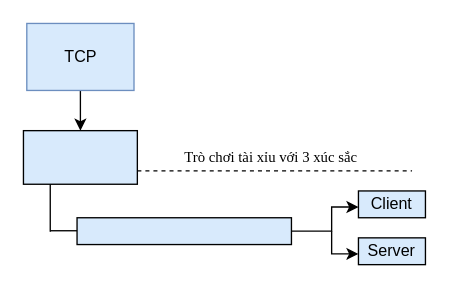
The diagram is 449 pixels wide and 288 high, and some of its shapes have lost their labels. Each missing label, with the box of its shape:
MiniGame: (22, 129, 137, 184)
Trò chơi Tài xỉu: (76, 216, 291, 245)
